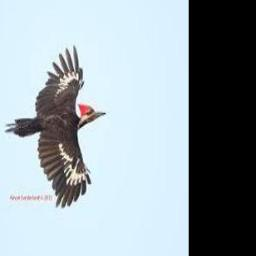Woodpecker: (4, 44, 105, 207)
